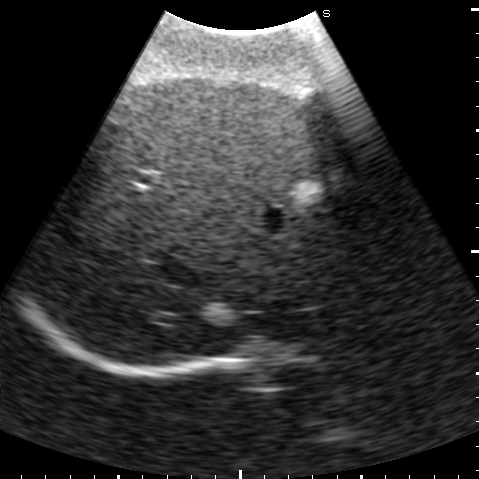S5: (116, 80, 346, 190)
S7: (32, 152, 155, 316)
S8: (83, 185, 363, 362)
Tumor: (288, 178, 323, 205), (204, 304, 237, 327)
